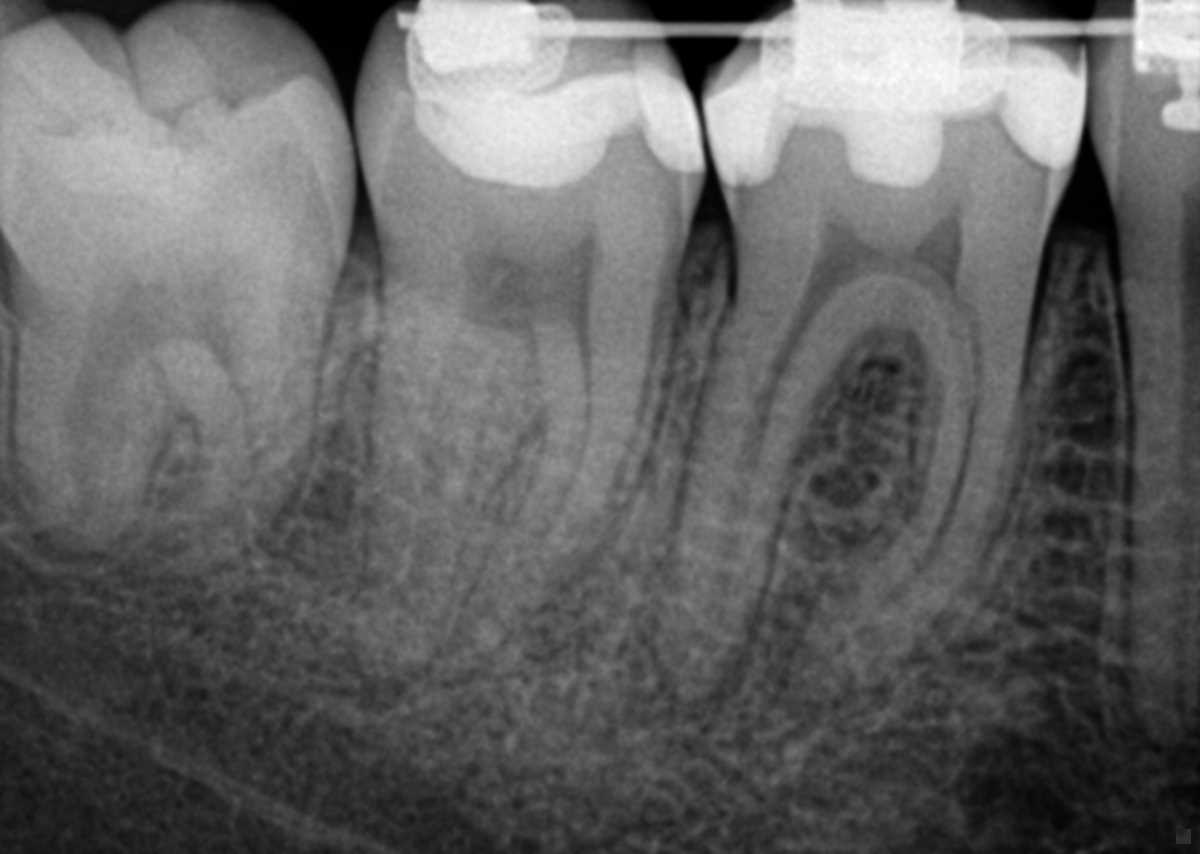Apical Lesion: (611, 623, 748, 732), (754, 607, 867, 726)
Distal Canal: (699, 301, 825, 661), (71, 365, 134, 531)
Distal Root: (650, 306, 844, 701), (357, 308, 534, 688), (8, 320, 183, 562)
Main Canal: (1174, 248, 1200, 683)
Main Root: (1113, 247, 1200, 749)
Mesial Canal: (839, 298, 978, 648), (529, 305, 592, 566), (218, 360, 255, 501)
Mesial Root: (445, 262, 678, 664), (786, 319, 1029, 698), (131, 264, 345, 581)
